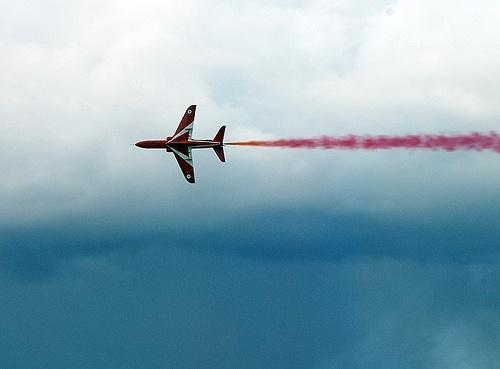aeroplane: (129, 106, 228, 185)
